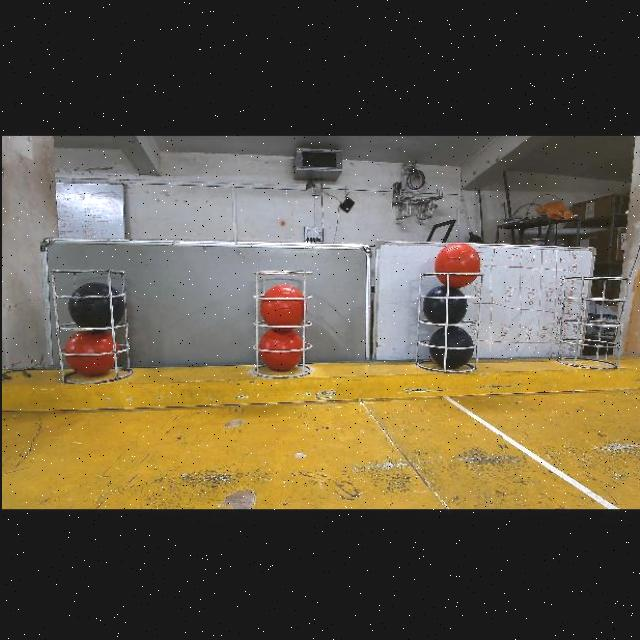P: (66, 281, 124, 328), (428, 324, 473, 368), (421, 283, 466, 322)
R: (61, 329, 117, 376), (433, 242, 479, 287), (257, 328, 302, 370), (259, 282, 302, 325)
S: (412, 264, 486, 382), (53, 266, 124, 374), (255, 260, 312, 376), (560, 269, 622, 371)
